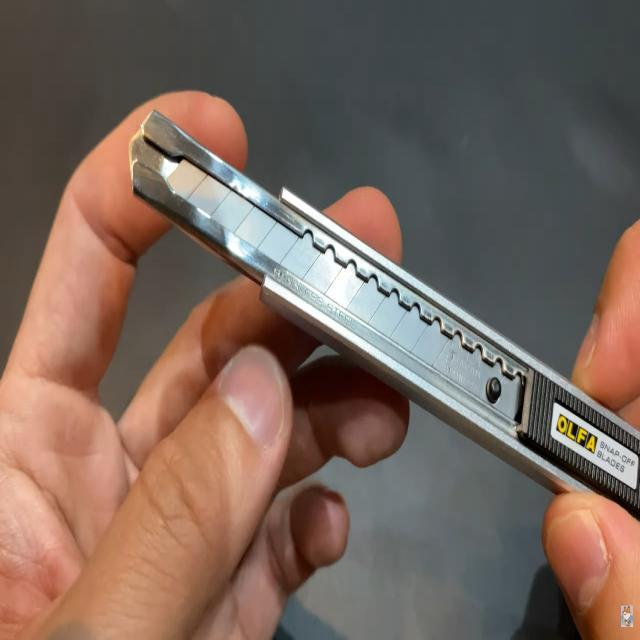cutter: (50, 32, 640, 611)
